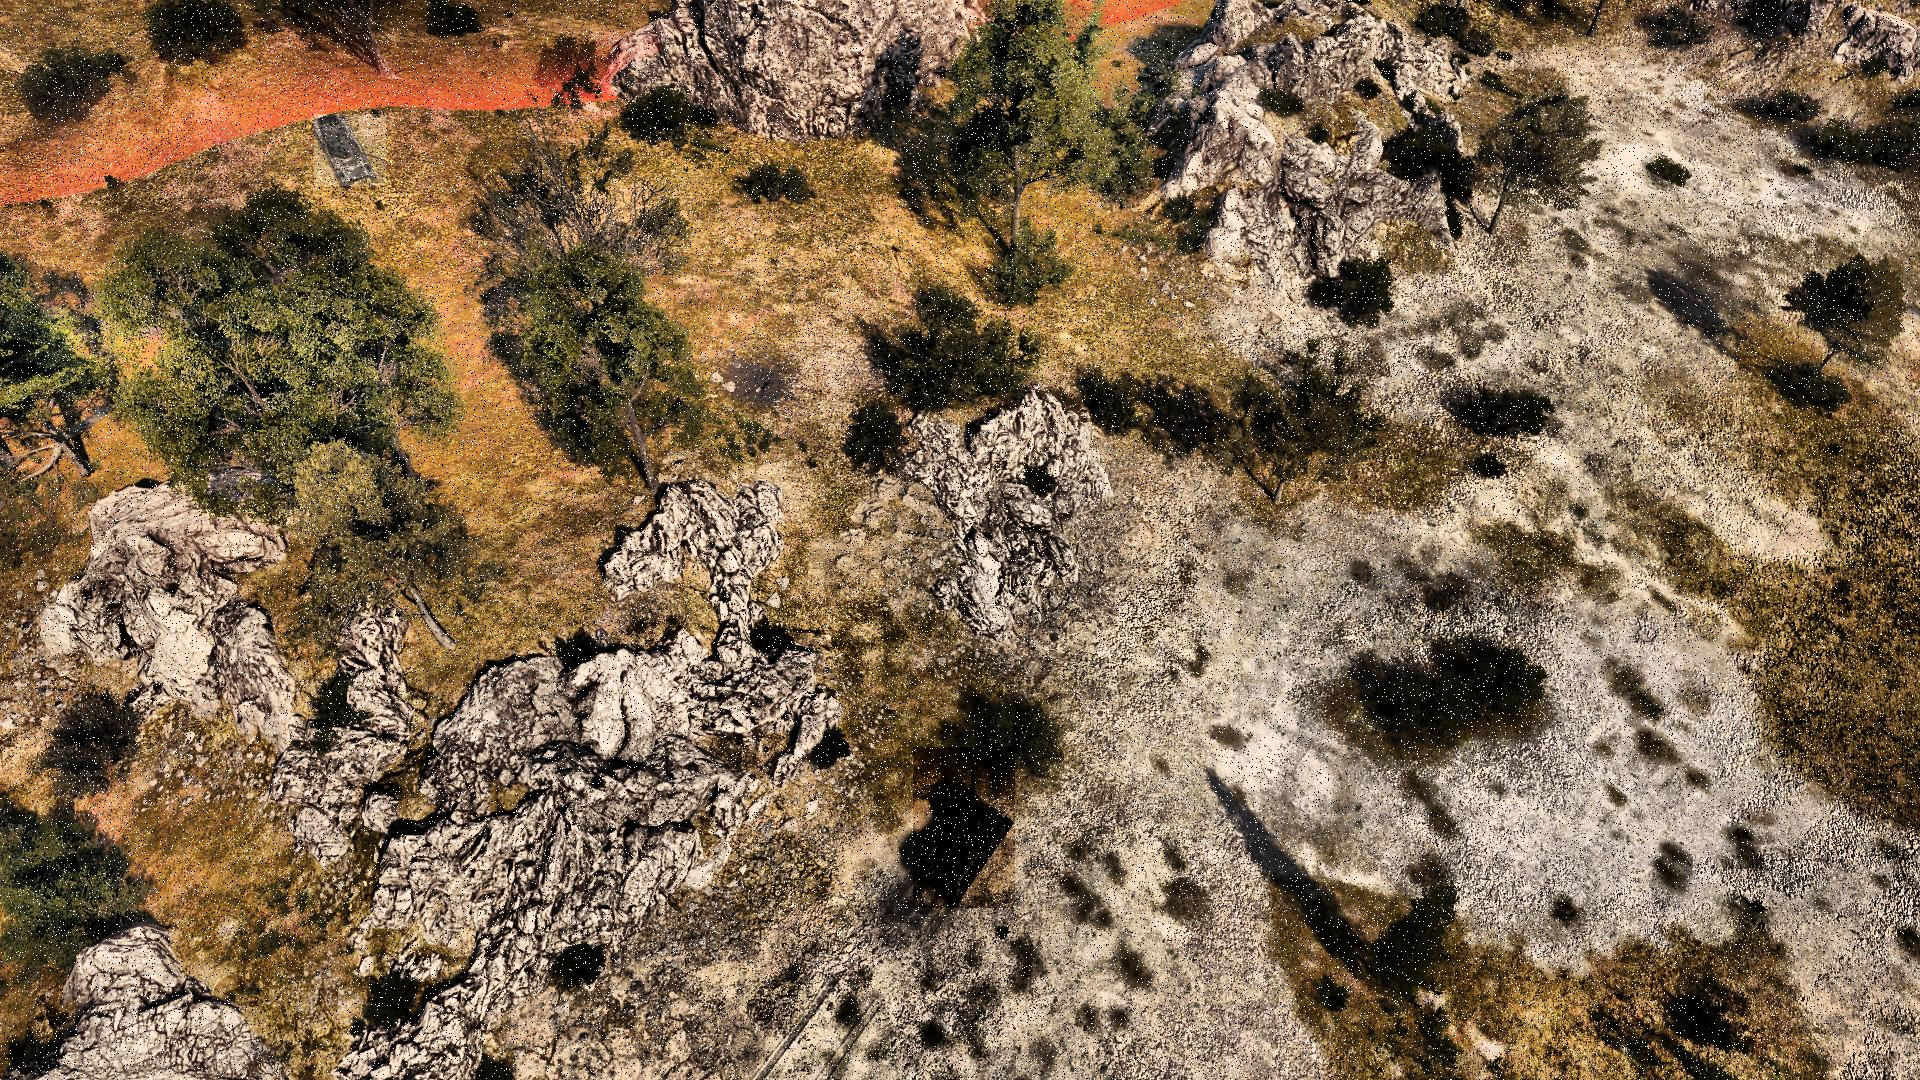military-vehicle: (913, 747, 1015, 908), (315, 115, 387, 187)
